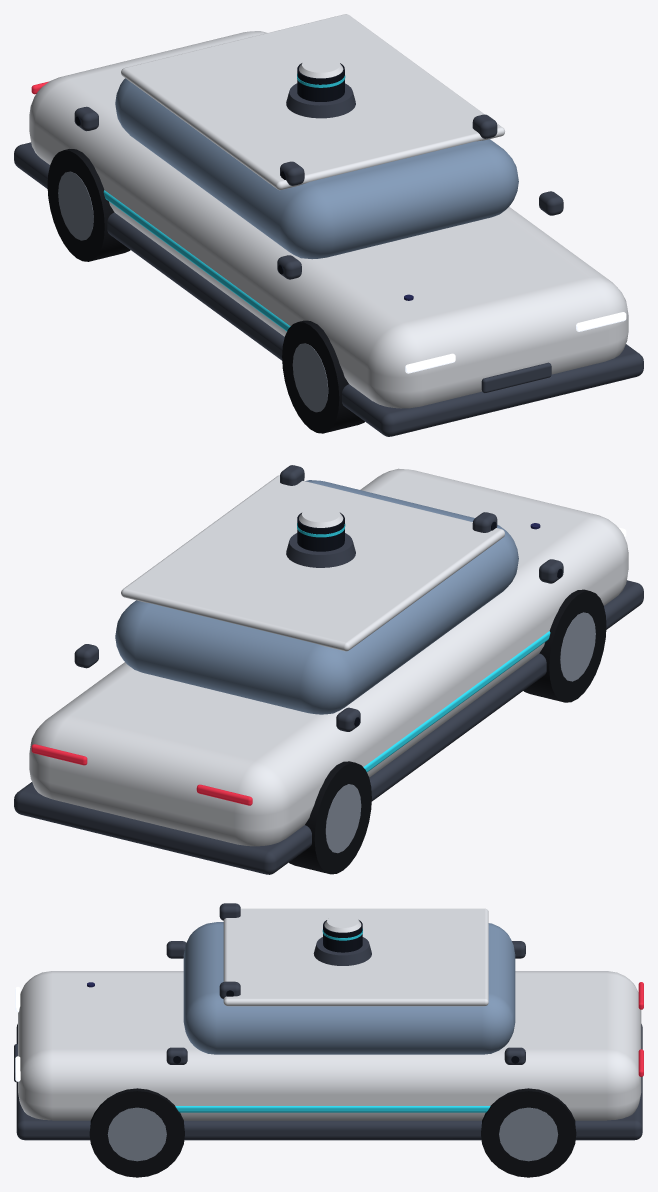
The model's file is robotaxiXray.glb.
The picture shows the model from 3 angles, top to bottom: view 1: azimuth 30°, elevation 25°; view 2: azimuth 150°, elevation 25°; view 3: azimuth 270°, elevation 25°; orthographic projection. The views are drawn at different scales.
Visible parts, largest first — view 1: shell, roof, cabin, rocker, wheel0, wheel2, lidarHead, stripe, lidarBase, radar; view 2: shell, roof, cabin, rocker, wheel2, wheel0, lidarHead, stripe, lidarBase; view 3: shell, roof, cabin, rocker, wheel1, wheel3, stripe, lidarHead, lidarBase.
Part boxes in pixels (left/top/right/bottom): shell: left=29, top=31, right=628, bottom=408; roof: left=121, top=14, right=504, bottom=190; cabin: left=115, top=78, right=518, bottom=259; rocker: left=14, top=142, right=643, bottom=436; wheel0: left=282, top=320, right=364, bottom=433; wheel2: left=47, top=149, right=130, bottom=261; lidarHead: left=297, top=56, right=345, bottom=101; stripe: left=103, top=190, right=290, bottom=331; lidarBase: left=286, top=83, right=355, bottom=118; radar: left=481, top=362, right=551, bottom=393; shell: left=29, top=468, right=628, bottom=846; roof: left=121, top=475, right=504, bottom=651; cabin: left=115, top=480, right=518, bottom=714; rocker: left=14, top=580, right=643, bottom=874; wheel2: left=289, top=761, right=371, bottom=874; wheel0: left=523, top=589, right=606, bottom=702; lidarHead: left=297, top=506, right=345, bottom=551; stripe: left=363, top=631, right=550, bottom=772; lidarBase: left=286, top=533, right=355, bottom=567; shell: left=18, top=971, right=641, bottom=1120; roof: left=223, top=908, right=488, bottom=1006; cabin: left=183, top=922, right=515, bottom=1054; rocker: left=16, top=1024, right=642, bottom=1140; wheel1: left=89, top=1088, right=184, bottom=1177; wheel3: left=481, top=1088, right=576, bottom=1177; stripe: left=175, top=1106, right=490, bottom=1112; lidarHead: left=322, top=914, right=362, bottom=952; lidarBase: left=313, top=937, right=371, bottom=965.
Bounding box in the file's own units: 2.03 × 1.68 × 4.75.
